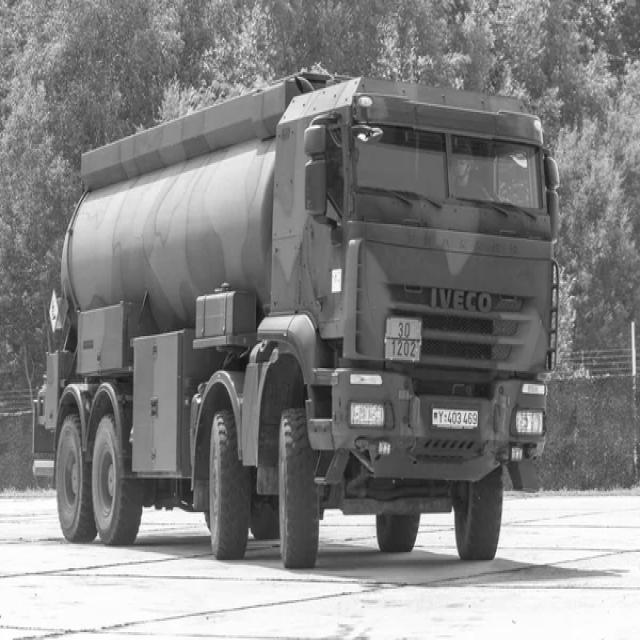Truck: (31, 75, 560, 569)
